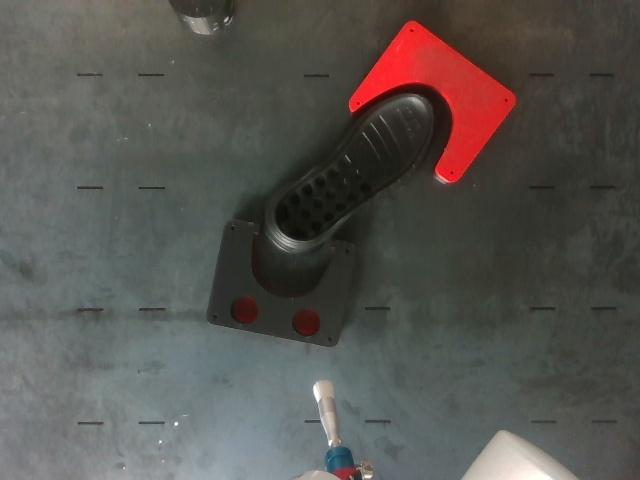shoes: (275, 98, 431, 241)
